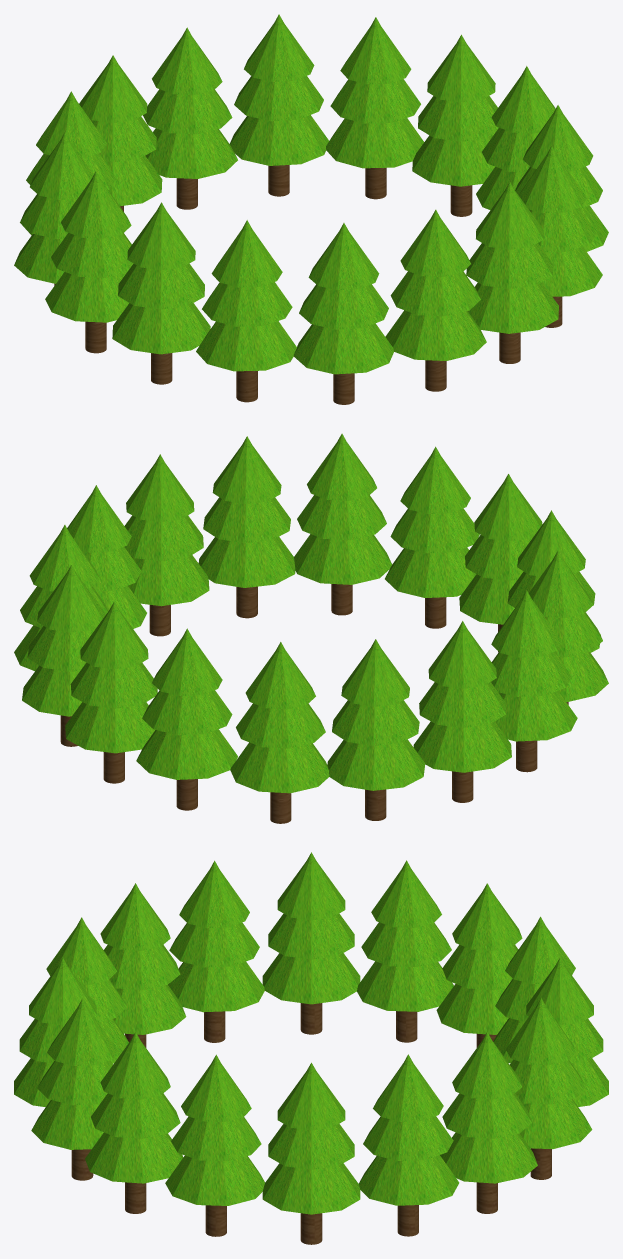
The model's file is trees.fbx.
The picture shows the model from 3 angles, top to bottom: view 1: azimuth 30°, elevation 25°; view 2: azimuth 150°, elevation 25°; view 3: azimuth 270°, elevation 25°; orthographic projection.
Parts seen in each view (by area): view 1: tree1 (×15), tree3 (×16), tree2 (×16), tree (×10); view 2: tree1 (×15), tree3 (×16), tree2 (×16), tree (×10); view 3: tree1 (×16), tree3 (×16), tree2 (×16), tree (×10).
Boxes of the visible parts, x1,y1,x2,y2 form: tree1 (×15): [14, 115, 608, 374]; tree3 (×16): [30, 24, 593, 290]; tree2 (×16): [20, 76, 602, 329]; tree (×10): [85, 165, 520, 404]; tree1 (×15): [14, 534, 608, 793]; tree3 (×16): [29, 443, 592, 709]; tree2 (×16): [20, 495, 602, 748]; tree (×10): [103, 584, 537, 823]; tree1 (×16): [14, 953, 608, 1214]; tree3 (×16): [29, 861, 593, 1130]; tree2 (×16): [19, 913, 603, 1169]; tree (×10): [71, 1003, 551, 1244].
Bounding box in the file's own units: 1.04 × 1.03 × 0.3397.
Materials: 2 (2 with a texture image).
